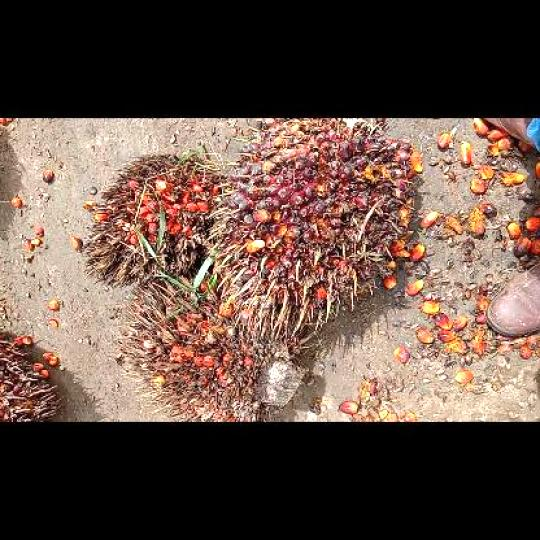masak: (207, 120, 416, 364)
terlalu masak: (111, 280, 310, 420), (79, 150, 227, 286)
